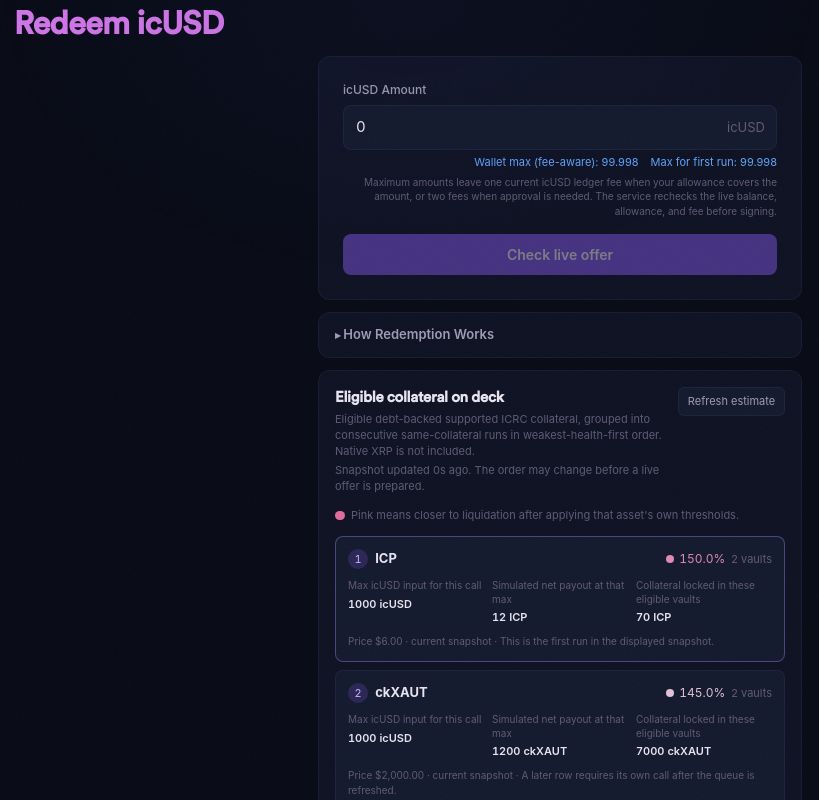
Test: redemption route quote and queue safety › keeps the estimate when live preparation is rate limited
The width and height of the screenshot is (819, 800).
Replace the text in the number field with id "icusd-amount" with "10" at (560, 127), box 343,105 -> 777,150
Wait 350 ms
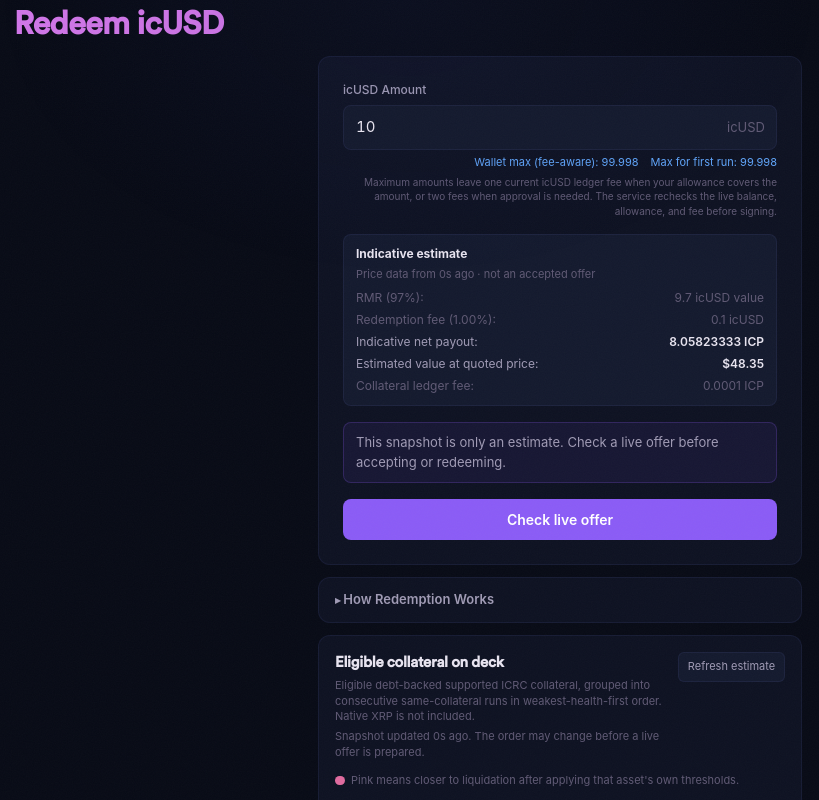
Click the button with id "check-live-offer" at (560, 520), box 343,499 -> 777,540
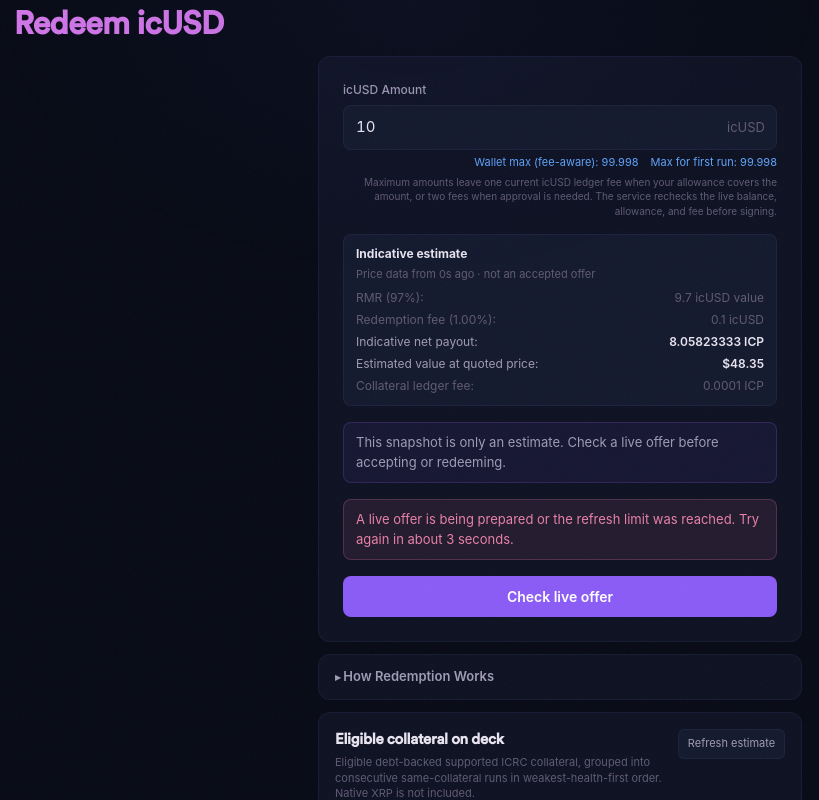
Now the text "Indicative estimate" is shown, box 356,246 -> 467,261
Now the text "Try again in about 3 seconds" is shown, box 356,511 -> 759,547
